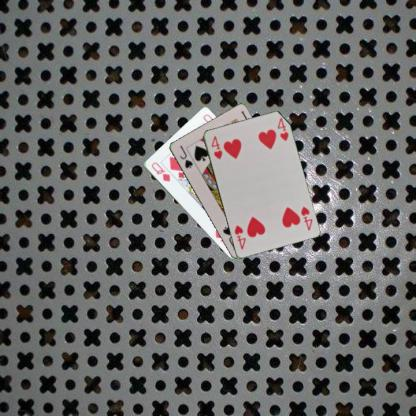4h: (208, 133, 224, 161), (298, 204, 314, 232)
Js: (177, 142, 194, 169)
Qd: (149, 160, 171, 183)
